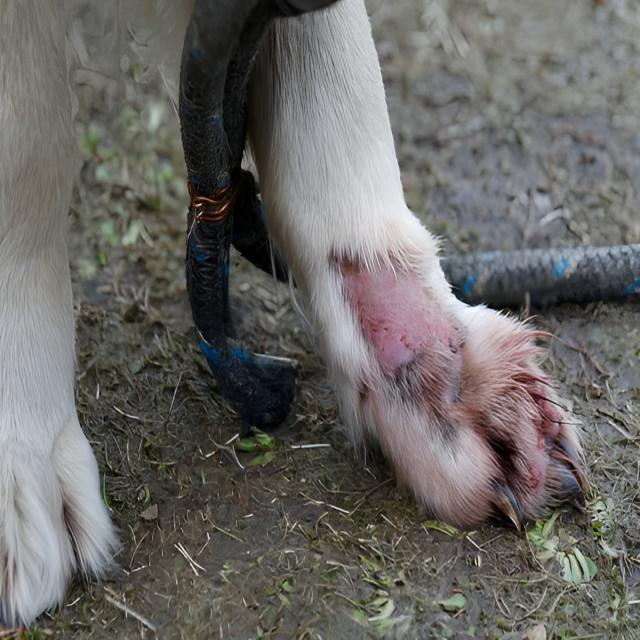allergic dermatitis: (338, 232, 449, 390)
